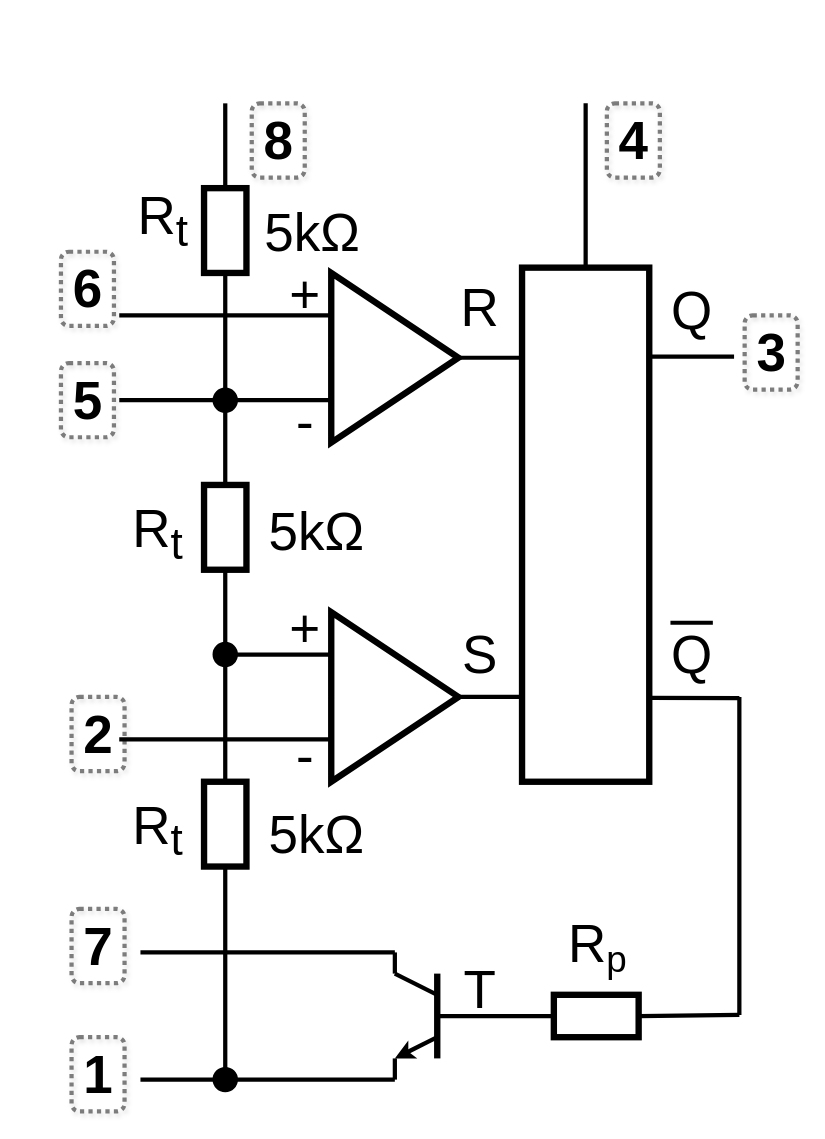
Image size: 825x1139. Some labels were removed from this diagram. The centre of each missing label's shape, as x and y in pixels:
A1: the point at 394,357
A2: the point at 394,696
触 发 器: the point at 585,524
